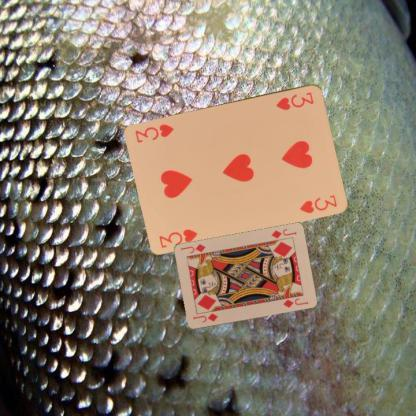3h: (156, 226, 198, 249), (274, 89, 316, 111)
Jd: (268, 226, 298, 240), (190, 311, 219, 323)
